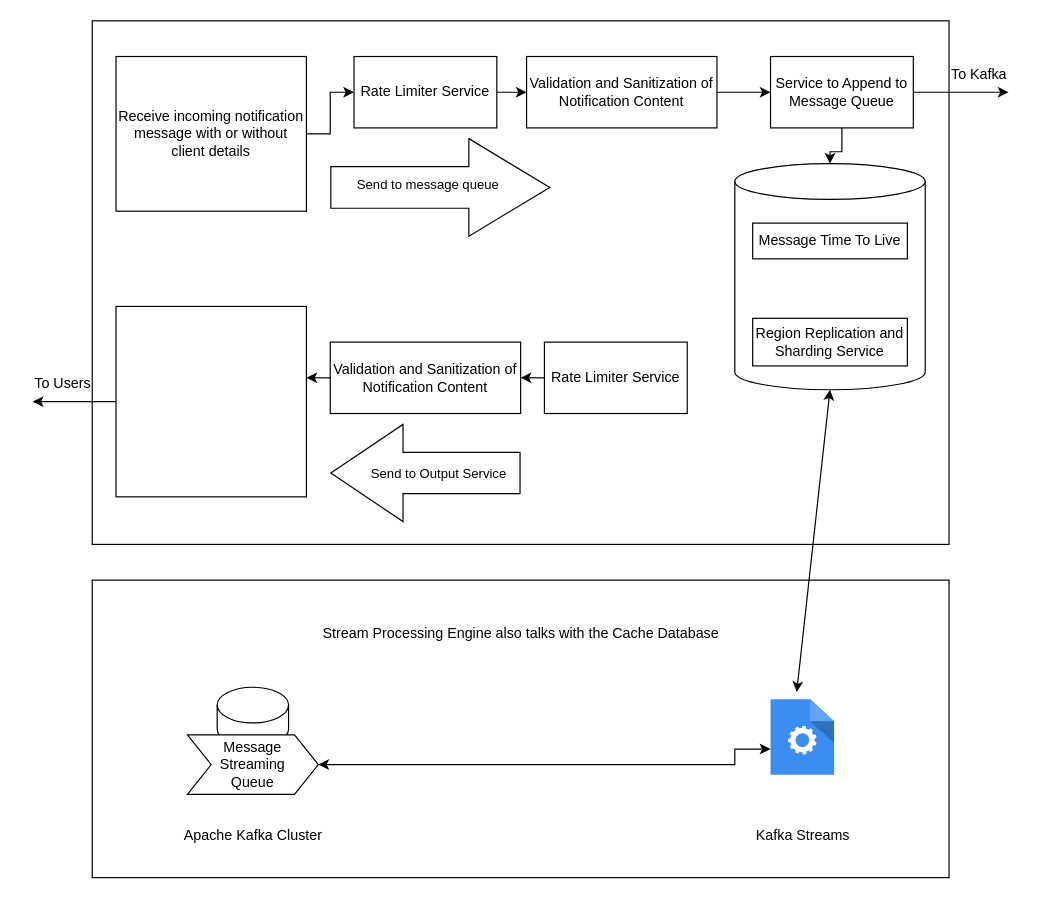
Image size: 1040x898. Some labels were removed from this diagram. The shapes that lost their labels are listed below. From the top down, each one's box as (x1, y1, x2, y2) in pixels, then its label:
(91, 20, 949, 544): Input to Notification Service / Output from Notification Service
(734, 162, 925, 390): Store metadata in cache
(115, 305, 306, 497): Send notification message to connected client
(91, 579, 949, 878): Routing
(770, 699, 833, 774): Stream Processing Engine
